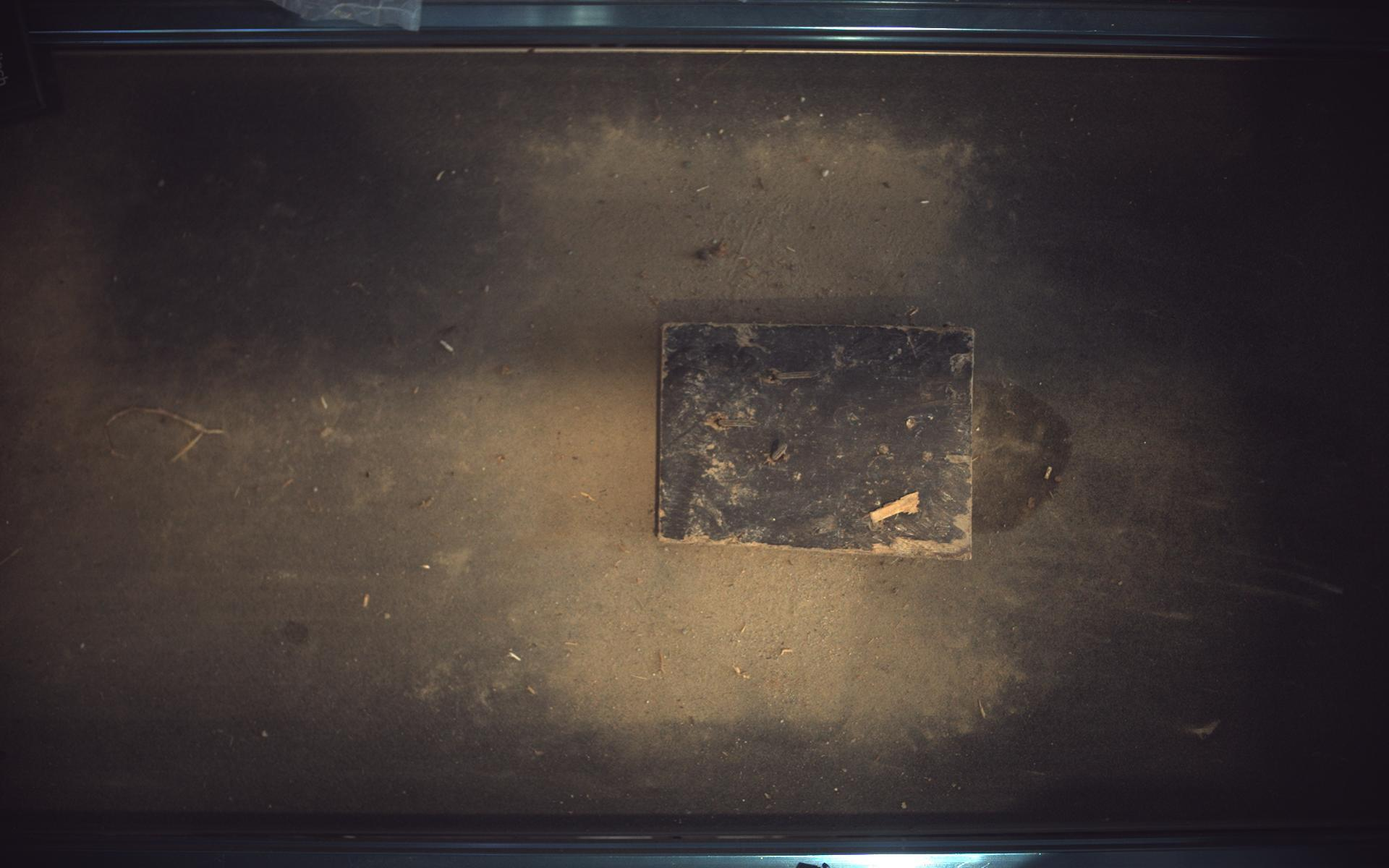wood: (658, 323, 977, 559)
